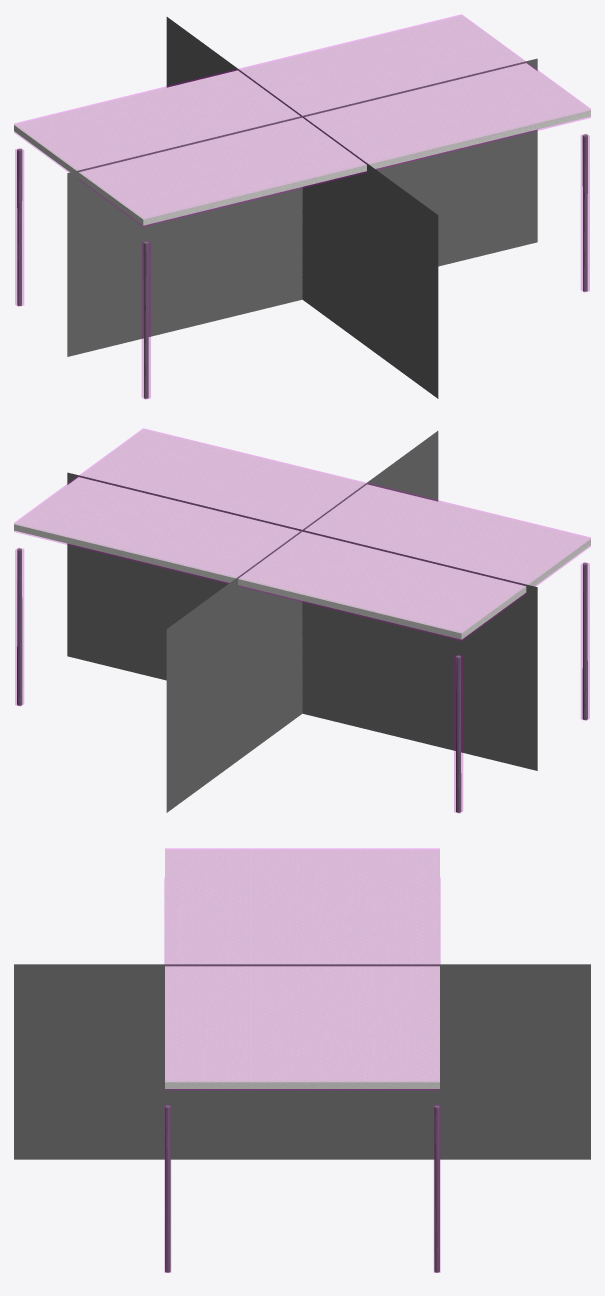
Rendered from tent_blank_6x3.dae.
The picture shows the model from 3 angles, top to bottom: view 1: azimuth 30°, elevation 25°; view 2: azimuth 150°, elevation 25°; view 3: azimuth 270°, elevation 25°; orthographic projection. The views are drawn at different scales.
Parts seen in each view (by area): view 1: tent_blank_6x3_a50, tent_blank_6x3_a800, Colmesh_roof-1, tent_blank_6x3_a200, Colmesh_pole0-1, Colmesh_pole1-1, Colmesh_pole3-1; view 2: tent_blank_6x3_a50, tent_blank_6x3_a200, Colmesh_roof-1, tent_blank_6x3_a800, Colmesh_pole0-1, Colmesh_pole2-1, Colmesh_pole3-1; view 3: tent_blank_6x3_a50, tent_blank_6x3_a800, Colmesh_roof-1, tent_blank_6x3_a200, Colmesh_pole2-1, Colmesh_pole1-1.
Part boxes in pixels (box(x1,y1,x2,y2)): tent_blank_6x3_a50: box(67, 17, 537, 398); tent_blank_6x3_a800: box(14, 15, 590, 398); Colmesh_roof-1: box(14, 14, 590, 226); tent_blank_6x3_a200: box(14, 16, 590, 398); Colmesh_pole0-1: box(142, 241, 150, 399); Colmesh_pole1-1: box(581, 134, 589, 292); Colmesh_pole3-1: box(15, 148, 23, 306); tent_blank_6x3_a50: box(67, 431, 537, 812); tent_blank_6x3_a200: box(14, 430, 590, 812); Colmesh_roof-1: box(14, 428, 590, 640); tent_blank_6x3_a800: box(14, 429, 590, 812); Colmesh_pole0-1: box(581, 562, 589, 720); Colmesh_pole2-1: box(15, 548, 23, 706); Colmesh_pole3-1: box(454, 655, 462, 813); tent_blank_6x3_a50: box(14, 964, 590, 1159); tent_blank_6x3_a800: box(165, 850, 439, 1272); Colmesh_roof-1: box(165, 848, 439, 1089); tent_blank_6x3_a200: box(165, 850, 439, 1272); Colmesh_pole2-1: box(434, 1105, 440, 1272); Colmesh_pole1-1: box(164, 1105, 170, 1272).
Bounding box in the file's own units: 6.43 × 6.43 × 2.4.
3 materials, 1 textured.
